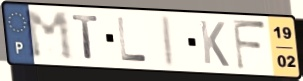F: (230, 17, 269, 72)
I: (161, 13, 177, 69)
K: (197, 18, 231, 69)
L: (115, 16, 150, 64)
M: (23, 10, 77, 62)
T: (69, 13, 101, 62)
